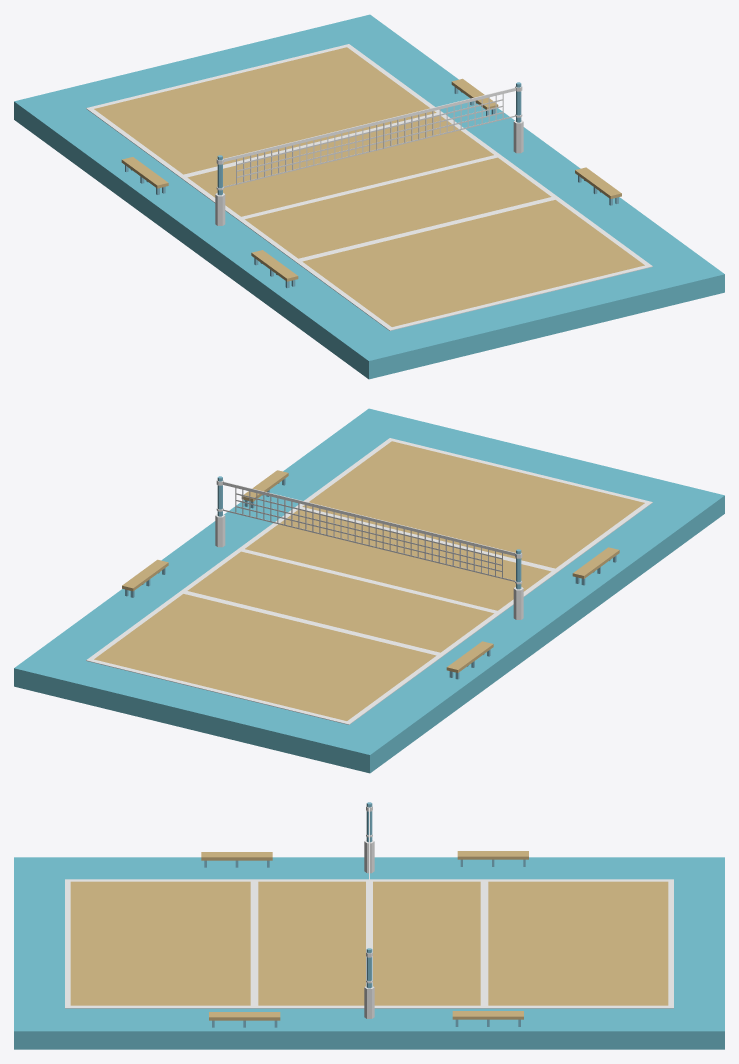
The model's file is cancha.gltf.
The picture shows the model from 3 angles, top to bottom: view 1: azimuth 30°, elevation 25°; view 2: azimuth 150°, elevation 25°; view 3: azimuth 270°, elevation 25°; orthographic projection.
Parts seen in each view (by area): view 1: Plane088, Box191, Plane089, Cylinder158, Box200, Box199, Box198, Box197; view 2: Plane088, Box191, Plane089, Cylinder158, Box200, Box199, Box197, Box198; view 3: Plane088, Box191, Cylinder158, Box200, Box198, Box197, Box199.
Part boxes in pixels (<box>): Plane088: <box>86,44,652,330</box>; Box191: <box>14,14,724,379</box>; Plane089: <box>223,87,516,187</box>; Cylinder158: <box>215,82,523,225</box>; Box200: <box>251,250,298,288</box>; Box199: <box>121,157,168,194</box>; Box198: <box>575,167,621,205</box>; Box197: <box>451,78,498,115</box>; Plane088: <box>86,438,652,724</box>; Box191: <box>14,408,724,773</box>; Plane089: <box>222,481,515,581</box>; Cylinder158: <box>215,476,523,619</box>; Box200: <box>572,547,619,585</box>; Box199: <box>446,641,493,679</box>; Box197: <box>122,559,168,597</box>; Box198: <box>241,470,288,508</box>; Plane088: <box>65,879,673,1008</box>; Box191: <box>14,857,724,1049</box>; Cylinder158: <box>364,802,374,1018</box>; Box200: <box>201,852,272,867</box>; Box198: <box>209,1012,280,1027</box>; Box197: <box>452,1011,523,1026</box>; Box199: <box>457,851,528,866</box>.
Size of what is drawn, in the model's own units: 12.18 by 2.82 by 21.02.
